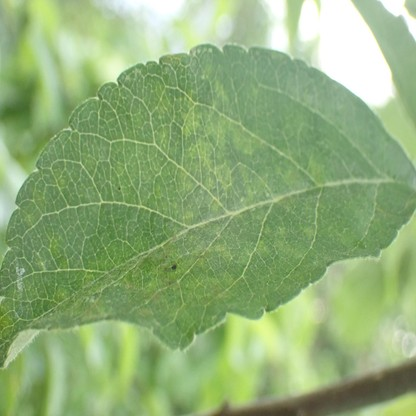scab: (0, 47, 393, 368)
